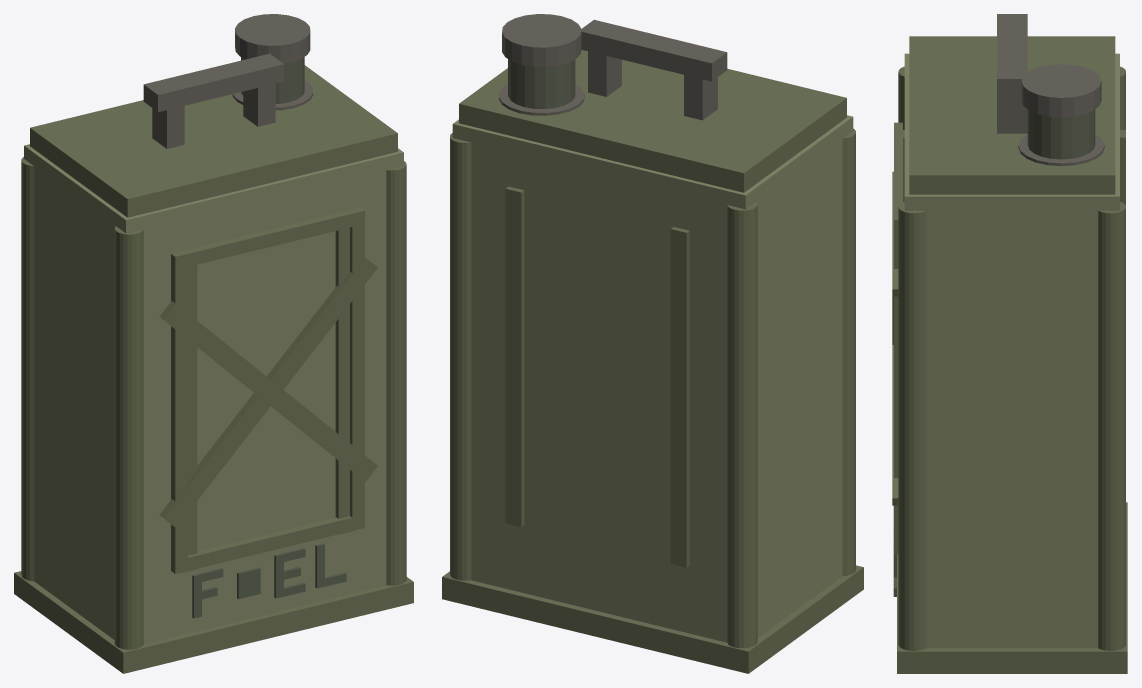
File: jerry_can.glb
The picture shows the model from 3 angles, left to right: view 1: azimuth 30°, elevation 25°; view 2: azimuth 150°, elevation 25°; view 3: azimuth 270°, elevation 25°; orthographic projection. The views are drawn at different scales.
Visible parts, largest first — view 1: JerryBody, JerryTop, JerrySeam_lf, JerryBase, JerrySeam_rf, JerryX_1, JerrySeam_lb, JerryX_0, JerryHandle, JerryPanelL, JerryPanelR, JerryRib_f_1 (+8 smaller); view 2: JerryBody, JerryTop, JerrySeam_lb, JerryBase, JerrySeam_rb, JerryRib_b_0, JerryRib_b_1, JerrySeam_lf, JerryHandle, JerryCap, JerryNeck, JerryHandlePost_0 (+2 smaller); view 3: JerryBody, JerryTop, JerrySeam_rf, JerrySeam_rb, JerryBase, JerryCap, JerryNeck, JerryHandle, JerryPanelR, JerryHandlePost_1, JerryCollar, JerryPanelTop (+4 smaller).
Boxes of the visible parts, <box> form: JerryBody: <box>24,144,403,643</box>; JerryTop: <box>30,65,397,217</box>; JerrySeam_lf: <box>114,226,143,649</box>; JerryBase: <box>14,571,413,673</box>; JerrySeam_rf: <box>386,161,406,585</box>; JerryX_1: <box>159,257,377,527</box>; JerrySeam_lb: <box>21,157,34,581</box>; JerryX_0: <box>159,301,377,481</box>; JerryHandle: <box>143,53,284,112</box>; JerryPanelL: <box>171,260,187,567</box>; JerryPanelR: <box>350,217,364,522</box>; JerryRib_f_1: <box>335,227,353,534</box>; JerryBody: <box>452,115,853,642</box>; JerryTop: <box>459,50,846,192</box>; JerrySeam_lb: <box>727,201,757,648</box>; JerryBase: <box>442,565,863,673</box>; JerrySeam_rb: <box>450,133,471,580</box>; JerryRib_b_0: <box>670,227,689,567</box>; JerryRib_b_1: <box>505,186,524,526</box>; JerrySeam_lf: <box>842,128,855,576</box>; JerryHandle: <box>581,19,727,81</box>; JerryCap: <box>502,14,581,66</box>; JerryNeck: <box>508,59,575,108</box>; JerryHandlePost_0: <box>684,65,717,120</box>; JerryBody: <box>904,53,1119,648</box>; JerryTop: <box>909,36,1115,194</box>; JerrySeam_rf: <box>898,201,925,650</box>; JerrySeam_rb: <box>1098,202,1125,650</box>; JerryBase: <box>897,502,1127,673</box>; JerryCap: <box>1021,64,1101,117</box>; JerryNeck: <box>1027,109,1095,159</box>; JerryHandle: <box>997,14,1027,96</box>; JerryPanelR: <box>894,227,898,540</box>; JerryHandlePost_1: <box>997,97,1027,133</box>; JerryCollar: <box>1018,134,1104,166</box>; JerryPanelTop: <box>894,122,902,233</box>.
Bounding box in the file's own units: 0.23 × 0.402 × 0.153.
